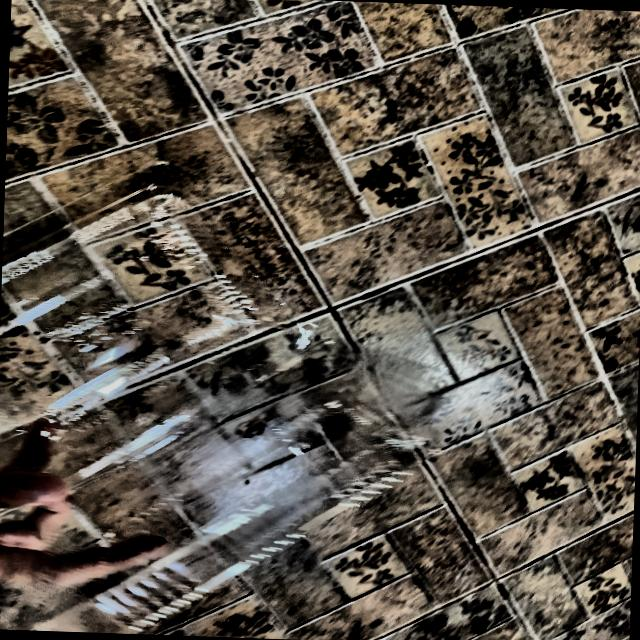plastic container: (7, 190, 324, 640)
